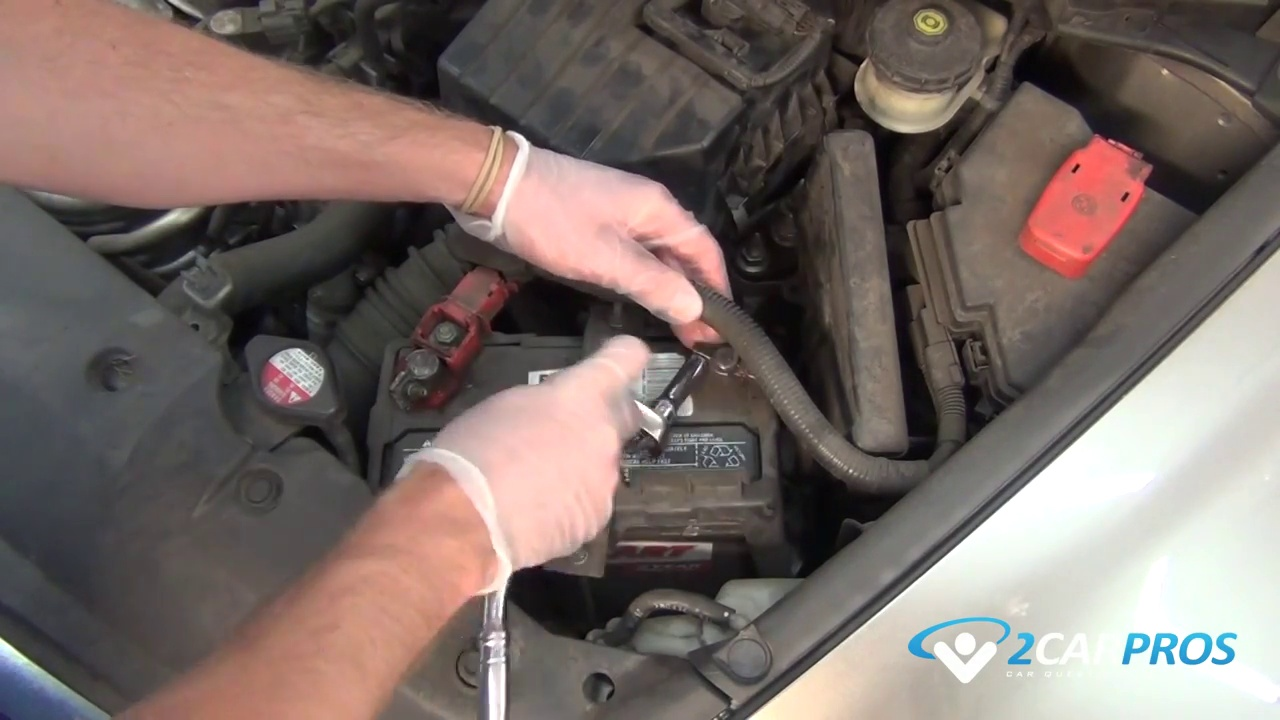battery: (371, 319, 784, 547)
neg_touched: (621, 251, 782, 466)
pos_connected: (379, 257, 492, 410)
